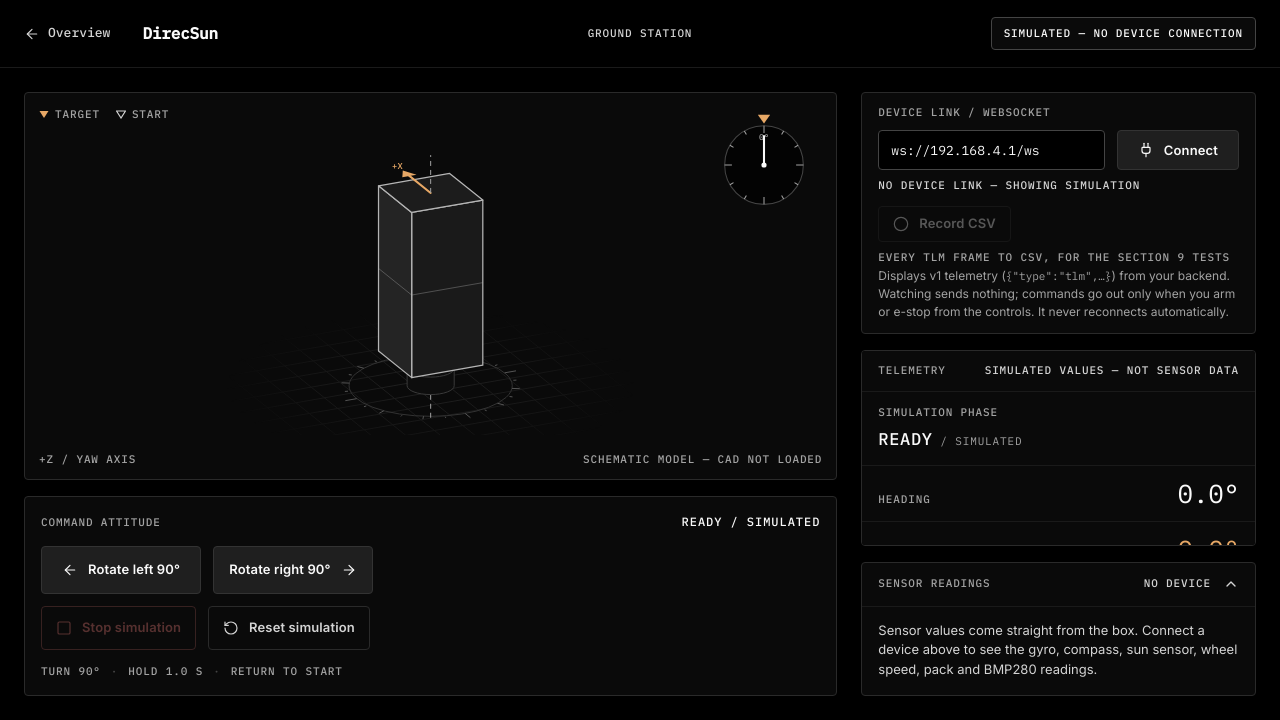
Test case: ground station with a device link › rejects a non-WebSocket URL without opening anything
Type "http://192.168.4.1" into the field labelled "DEVICE LINK / WEBSOCKET" at (992, 150), box [878,130,1105,170]
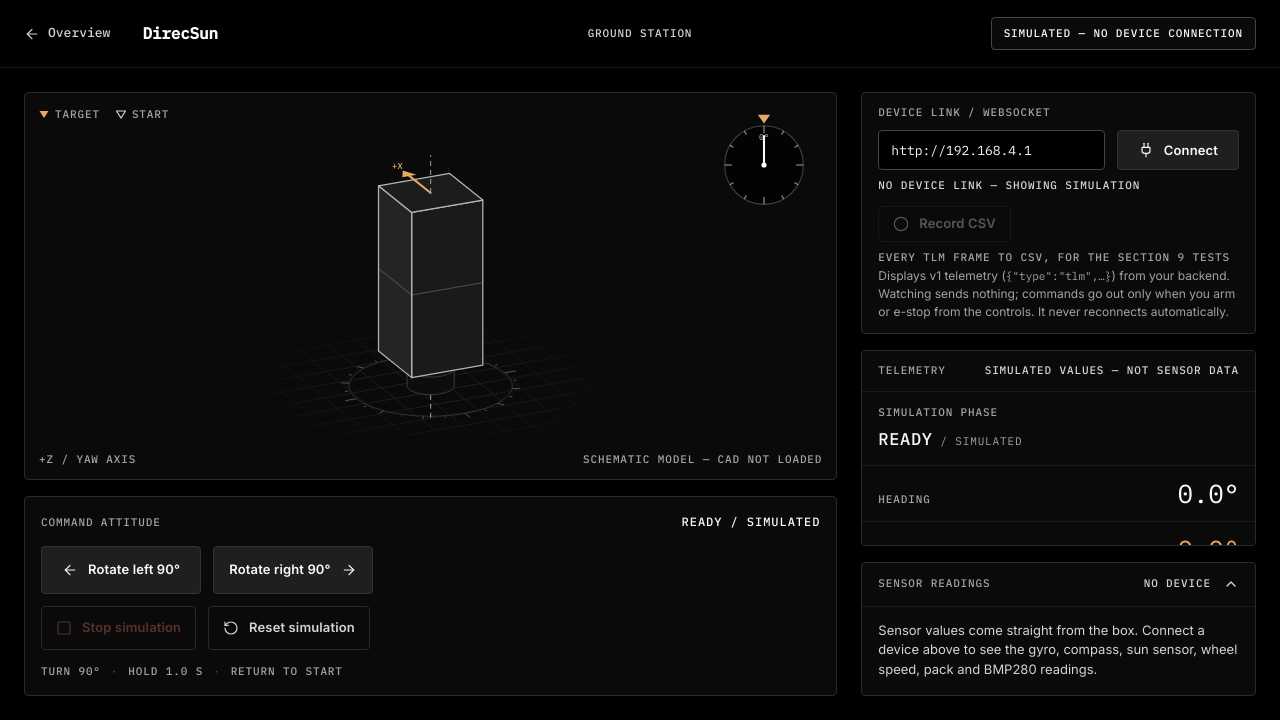
Click the button "Connect" at (1178, 150), box [1117,130,1239,170]
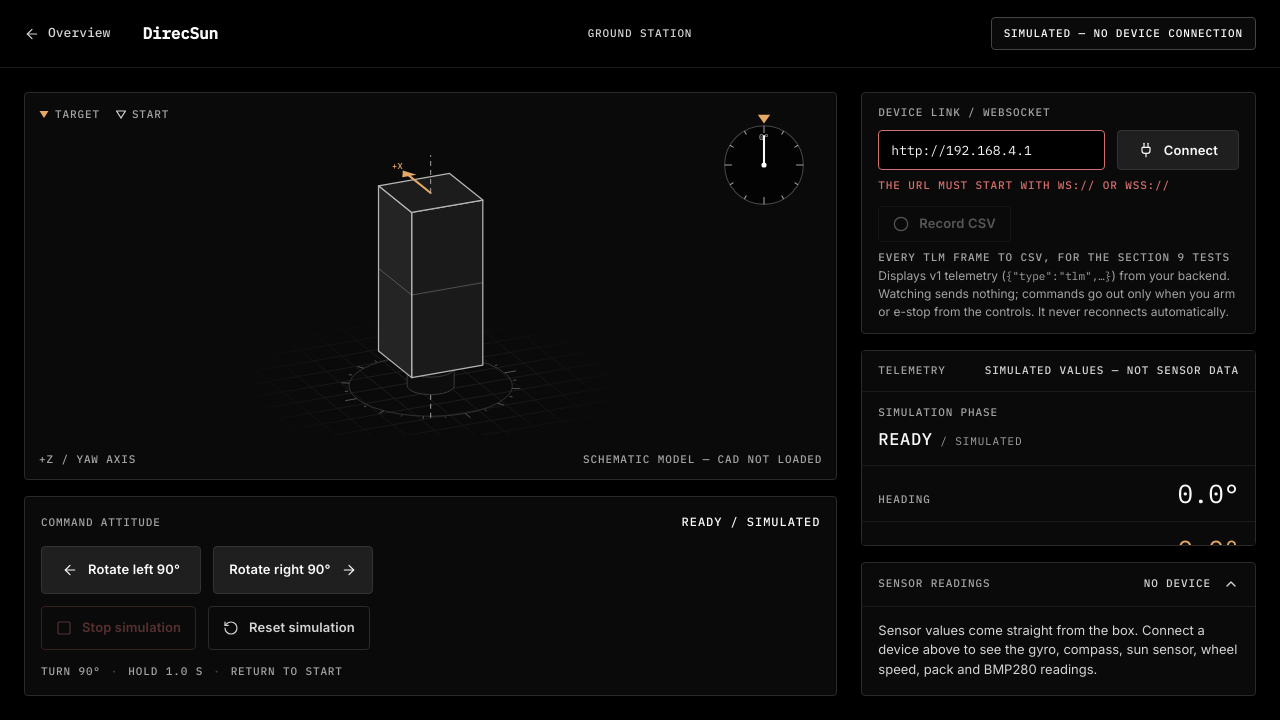
Check: the text "The URL must start with ws:// or wss://" is shown, box [878,178,1170,192]
